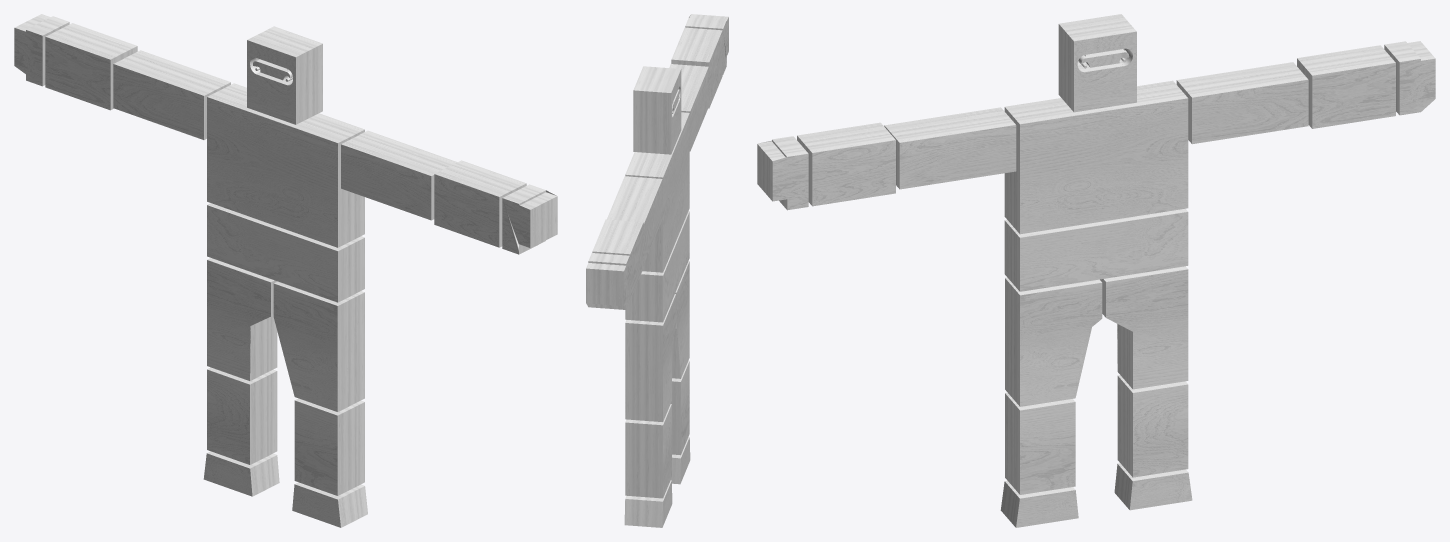
3 renders of one model, left to right at view 1: azimuth 30°, elevation 25°; view 2: azimuth 150°, elevation 25°; view 3: azimuth 270°, elevation 25°, orthographic. The views are drawn at different scales.
Visible parts, largest first — view 1: GOO; view 2: GOO; view 3: GOO.
Boxes of the visible parts, x1,y1,x2,y2 form: GOO: (14, 14, 557, 527); GOO: (586, 14, 728, 527); GOO: (757, 14, 1435, 527).
Bounding box in the file's own units: 0.8338 × 1.54 × 1.99.
